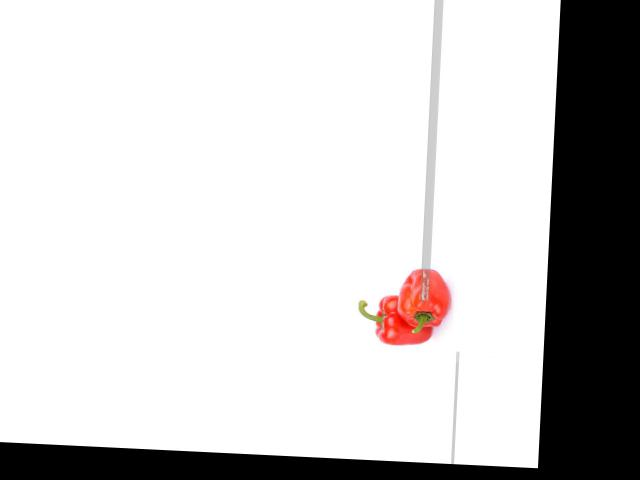bell_pepper: (391, 259, 451, 333)
